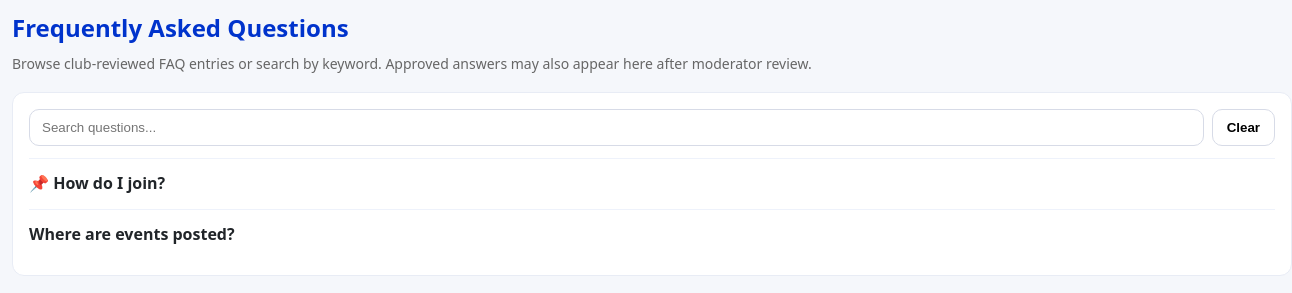
Test: FaqBrowse (canonical /ask FAQ surface) › shows a fail-closed empty search state with Ask link
Expected: the text "📌 How do I join?" is shown, [29, 172, 165, 194]
Type "zzzz" into the search field labelled "Search questions" at (616, 128), box [29, 109, 1204, 146]
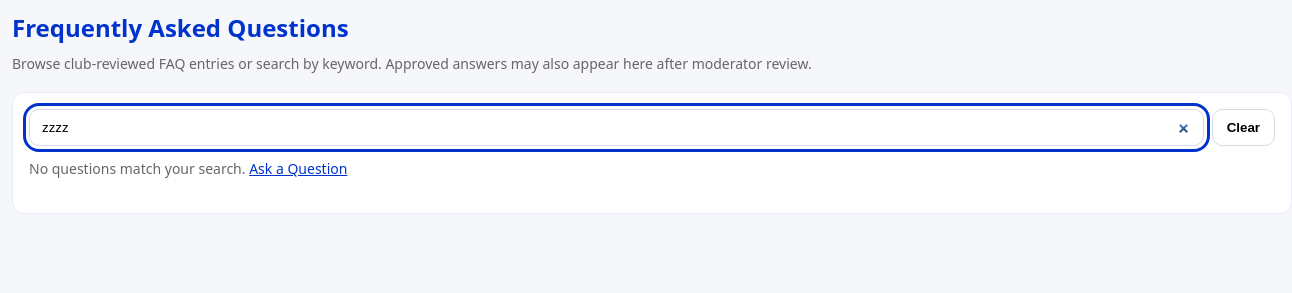
Expected: the text "No questions match your search. Ask a Question" is shown, [29, 159, 347, 178]
